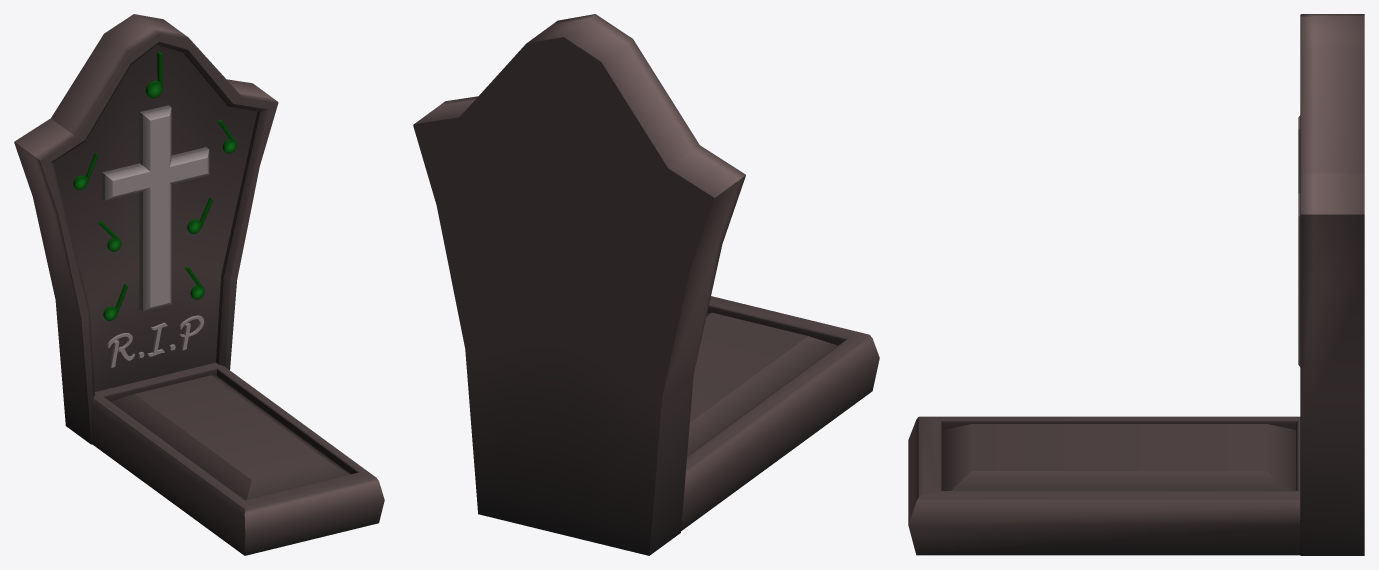
Rendered from Grave Tomb .fbx.
3 views of the same model, side by side, from view 1: azimuth 30°, elevation 25°; view 2: azimuth 150°, elevation 25°; view 3: azimuth 270°, elevation 25° (orthographic). The views are drawn at different scales.
Parts seen in each view (by area): view 1: polySurface215; view 2: polySurface215; view 3: polySurface215.
Boxes of the visible parts, x1,y1,x2,y2 form: polySurface215: [14, 14, 384, 555]; polySurface215: [413, 14, 879, 555]; polySurface215: [908, 14, 1364, 555].
Bounding box in the file's own units: 2.86 × 4.52 × 3.75.
